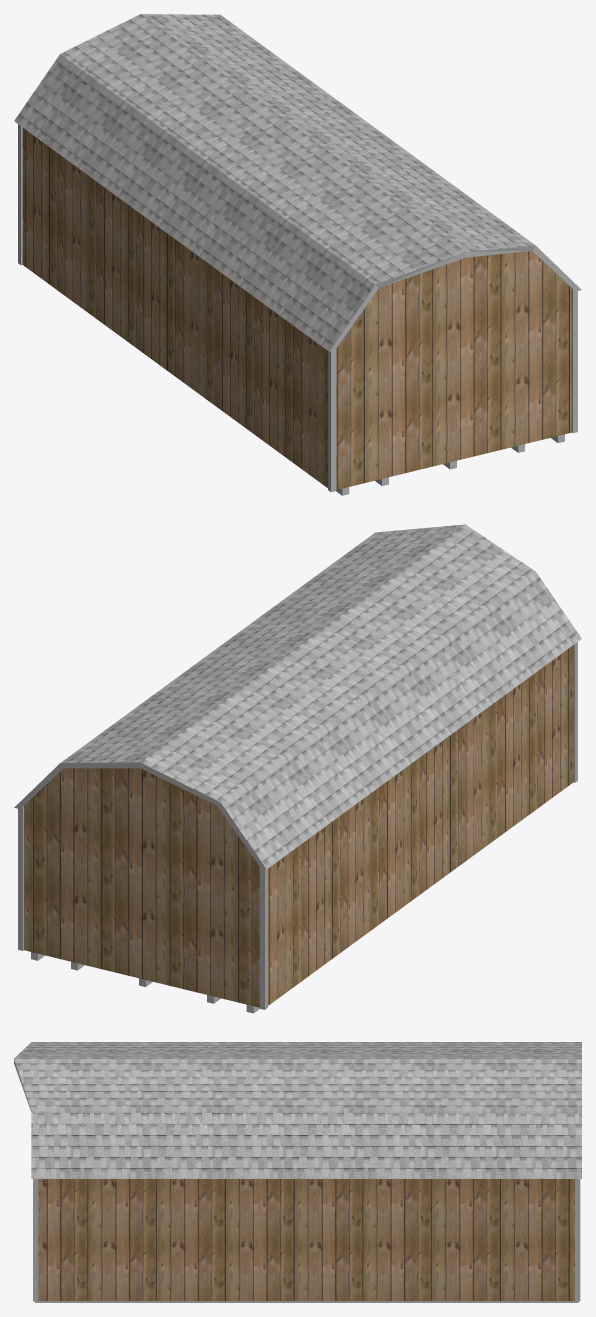
Rendered from High Wall Barns_12x28.obj.
3 views of the same model, one above another, from view 1: azimuth 30°, elevation 25°; view 2: azimuth 150°, elevation 25°; view 3: azimuth 270°, elevation 25° (orthographic). The views are drawn at different scales.
Parts seen in each view (by area): view 1: Shed, Roof, Trim, Sides; view 2: Shed, Roof, Trim, Sides; view 3: Roof, Shed, Trim, Floor.
Boxes of the visible parts, left/top/right/bottom form: Shed: left=22, top=128, right=573, bottom=489; Roof: left=14, top=14, right=535, bottom=351; Trim: left=18, top=124, right=577, bottom=492; Sides: left=329, top=245, right=581, bottom=351; Shed: left=23, top=645, right=573, bottom=1007; Roof: left=61, top=524, right=581, bottom=868; Trim: left=18, top=642, right=577, bottom=1009; Sides: left=14, top=762, right=266, bottom=869; Roof: left=14, top=1042, right=581, bottom=1178; Shed: left=38, top=1179, right=574, bottom=1300; Trim: left=33, top=1179, right=580, bottom=1301; Floor: left=35, top=1301, right=578, bottom=1302.
Size of the model in its own units: 3.72 by 3.17 by 8.28.
